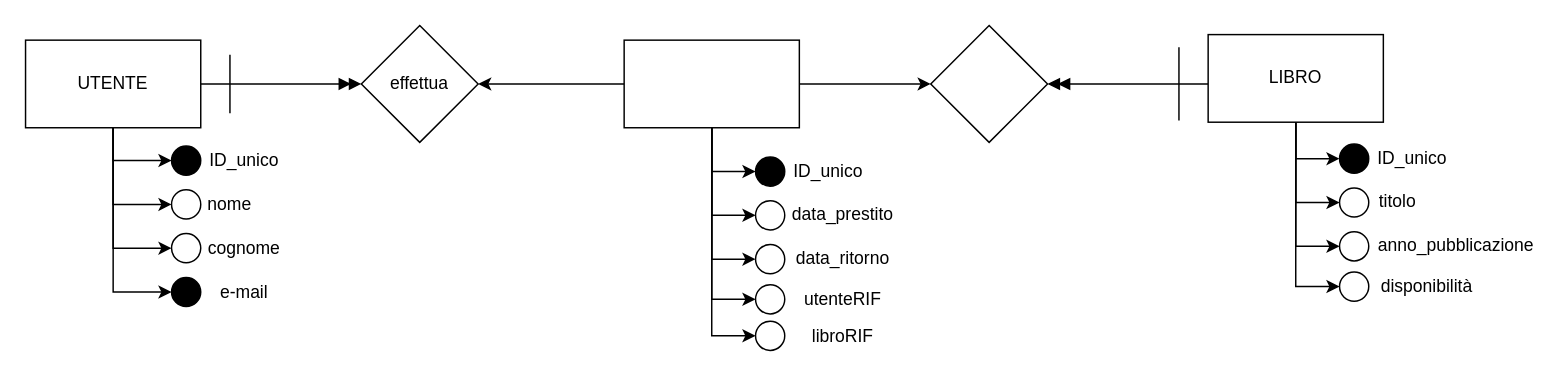
This 1559x383 diagram has some shape labels left out. Each missing label, with the box of its shape:
PRESTITO: (623, 39, 799, 128)
riguarda: (929, 24, 1048, 142)
